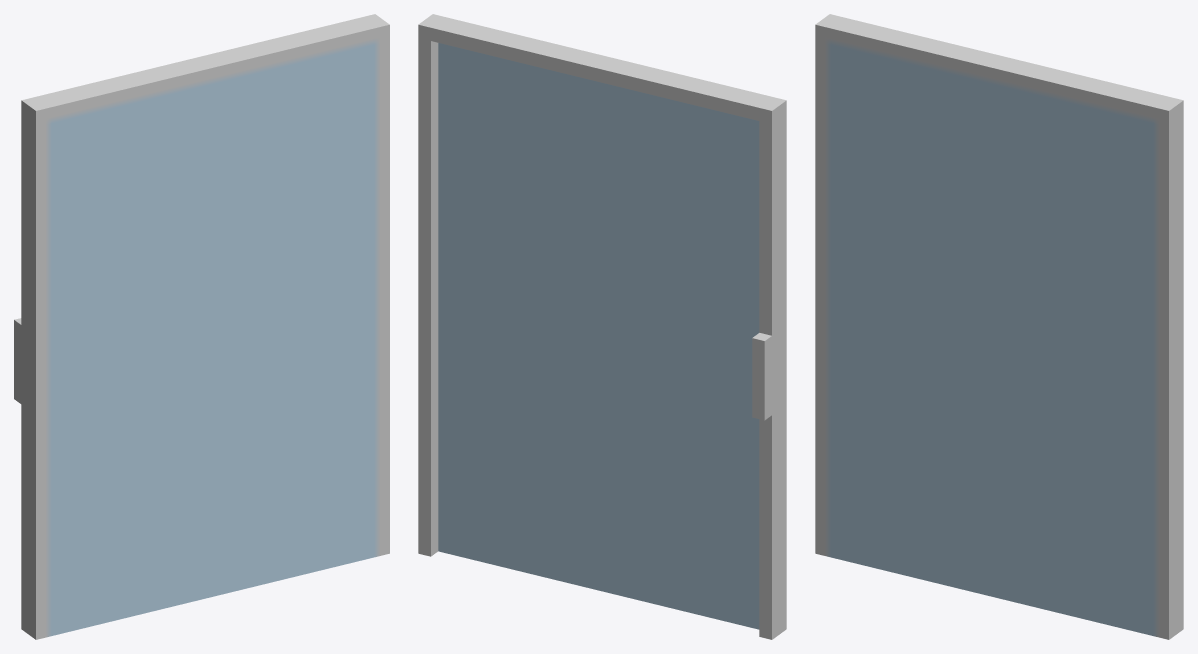
Rendered from Exit.obj.
3 views of the same model, side by side, from view 1: azimuth 30°, elevation 25°; view 2: azimuth 150°, elevation 25°; view 3: azimuth 330°, elevation 25° (orthographic).
Size of the model in its own units: 28 by 40 by 3.
1 material, 1 textured.
